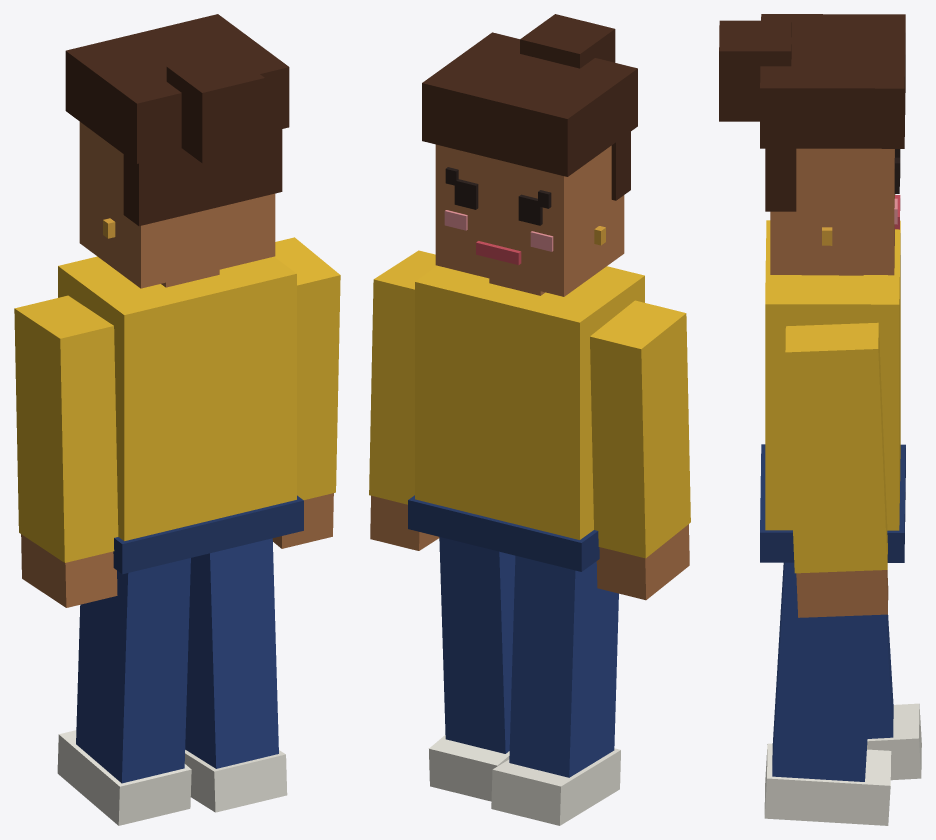
The model's file is walker_2.glb.
3 renders of one model, left to right at view 1: azimuth 30°, elevation 25°; view 2: azimuth 150°, elevation 25°; view 3: azimuth 270°, elevation 25°, orthographic. The views are drawn at different scales.
Parts seen in each view (by area): view 1: Box9, Box3, Box1, Box5, Box22, Box12, Box7, Box23, Box24, Box10, Box2, Box6 (+2 smaller); view 2: Box9, Box3, Box22, Box1, Box12, Box5, Box7, Box10, Box2, Box4, Box24, Box6 (+5 smaller); view 3: Box7, Box22, Box5, Box9, Box12, Box6, Box24, Box8, Box10, Box1, Box2, Box23.
Part boxes in pixels (x1,y1,x2,y2): Box9: (58, 256, 296, 540); Box3: (14, 295, 118, 562); Box1: (76, 558, 190, 783); Box5: (185, 538, 278, 768); Box22: (65, 14, 289, 163); Box12: (79, 122, 275, 288); Box7: (274, 237, 340, 500); Box23: (123, 129, 282, 226); Box24: (166, 51, 264, 163); Box10: (113, 495, 303, 574); Box2: (57, 730, 191, 825); Box6: (184, 750, 287, 812); Box9: (415, 265, 644, 539); Box3: (590, 300, 690, 558); Box22: (422, 32, 637, 176); Box1: (509, 555, 618, 777); Box12: (435, 144, 624, 296); Box5: (439, 537, 515, 753); Box7: (369, 250, 436, 504); Box10: (408, 495, 599, 571); Box2: (491, 748, 620, 825); Box4: (596, 524, 689, 600); Box24: (520, 14, 615, 68); Box6: (429, 735, 509, 801); Box7: (785, 322, 887, 573); Box22: (760, 14, 905, 148); Box5: (772, 562, 874, 781); Box9: (765, 220, 900, 530); Box12: (770, 148, 895, 275); Box6: (764, 743, 891, 825); Box24: (719, 20, 791, 121); Box8: (796, 570, 888, 617); Box10: (760, 444, 905, 562); Box1: (867, 614, 893, 738); Box2: (867, 703, 921, 780); Box23: (765, 148, 796, 211).
Size of the model in its own units: 0.7103 by 1.82 by 0.4454.
